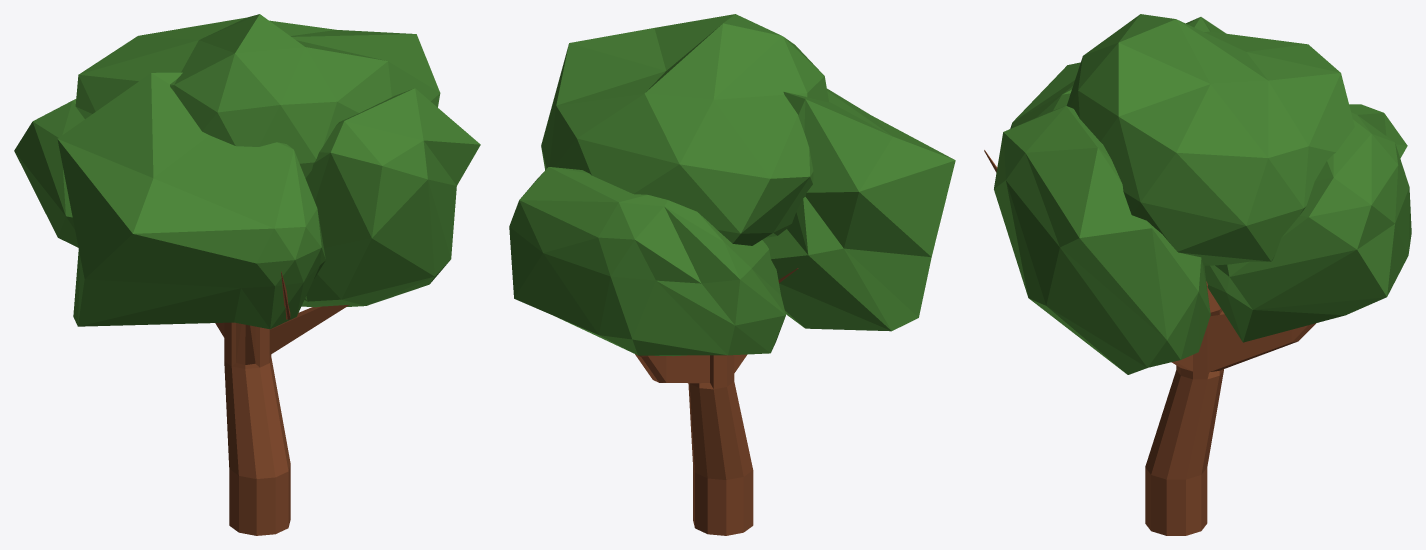
Rendered from green.fbx.
3 renders of one model, left to right at view 1: azimuth 30°, elevation 25°; view 2: azimuth 150°, elevation 25°; view 3: azimuth 270°, elevation 25°, orthographic.
Parts seen in each view (by area): view 1: Cylinder; view 2: Cylinder; view 3: Cylinder.
Boxes of the visible parts, x1,y1,x2,y2 form: Cylinder: [14, 14, 480, 535]; Cylinder: [509, 14, 955, 535]; Cylinder: [984, 14, 1411, 535].
Size of the model in its own units: 1356 by 1790 by 1375.
1 material, 1 textured.
